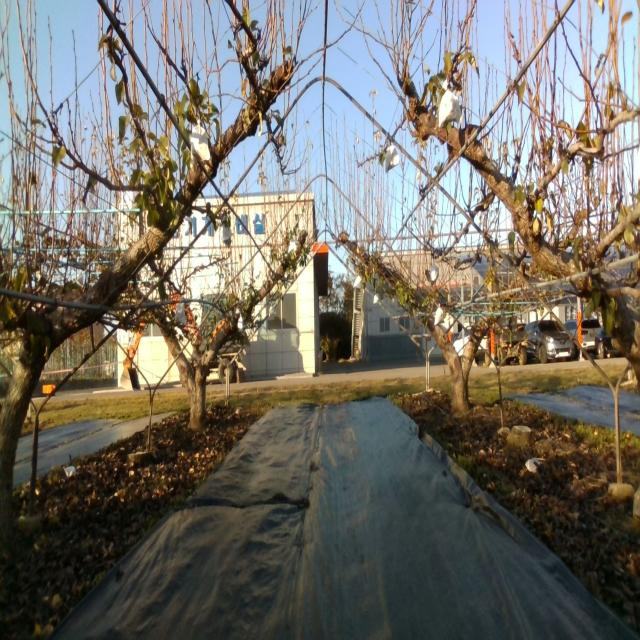pearbags: (438, 79, 464, 128), (189, 119, 210, 166), (386, 141, 400, 172), (434, 303, 445, 327), (221, 226, 232, 248), (175, 304, 186, 324)
